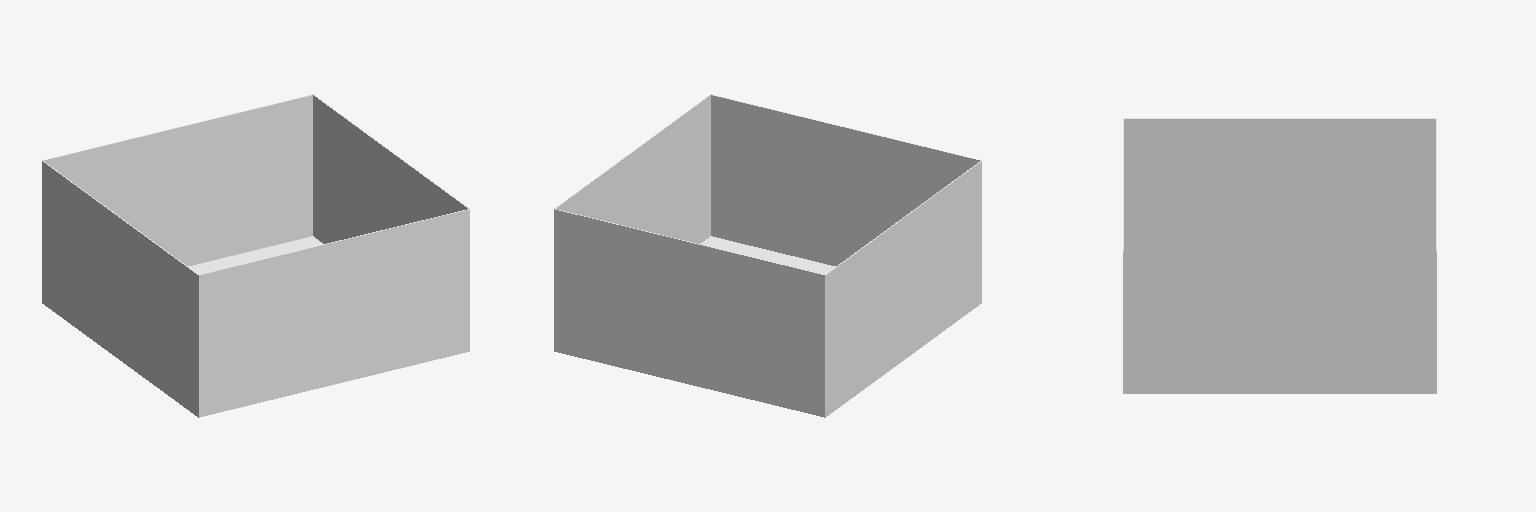
File: stage3_all_b.obj
3 views of the same model, side by side, from view 1: azimuth 30°, elevation 25°; view 2: azimuth 150°, elevation 25°; view 3: azimuth 270°, elevation 25° (orthographic).
Visible parts, largest first — view 1: object 1; view 2: object 1; view 3: object 1.
Boxes of the visible parts, box(x1,y1,x2,y2) form: object 1: box(42, 94, 469, 417); object 1: box(554, 94, 981, 417); object 1: box(1123, 118, 1436, 393).
Bounding box in the file's own units: 25.6 × 12.8 × 25.6.